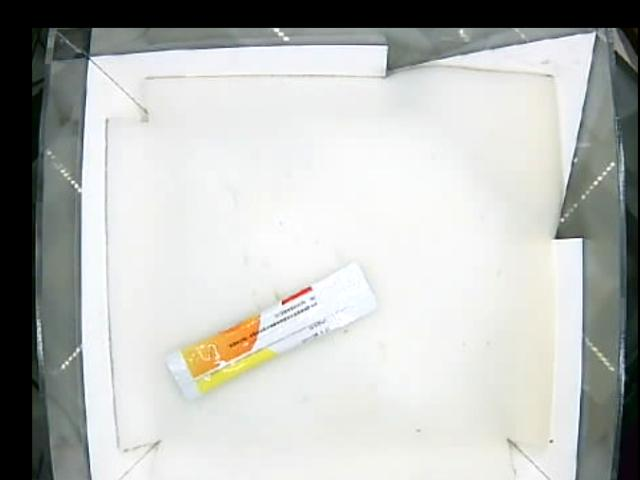Medicine: (163, 261, 379, 399)
